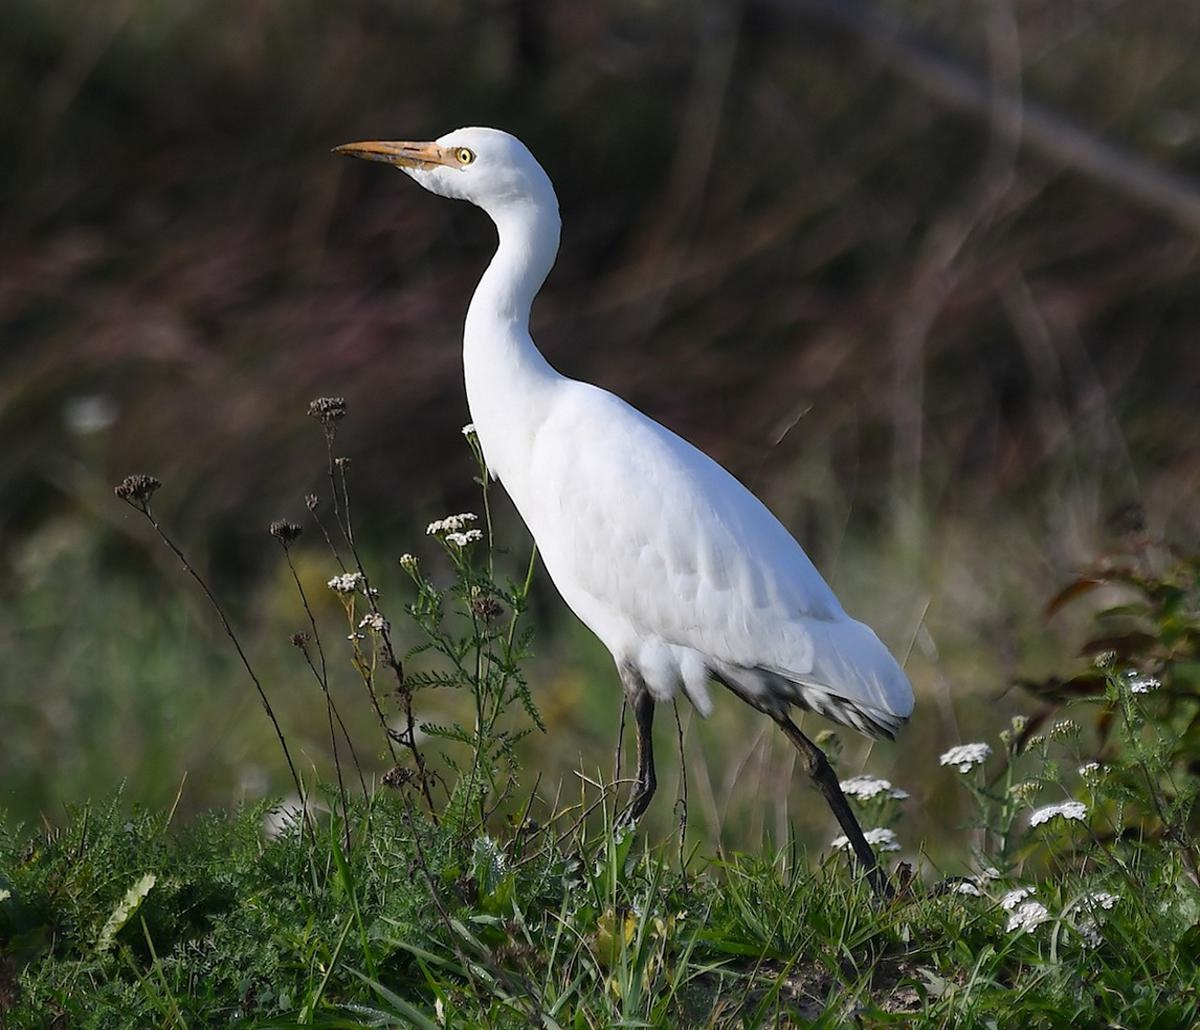egret: (307, 96, 958, 891)
